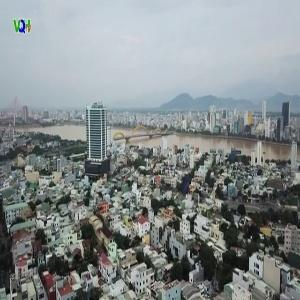drone: (164, 159, 220, 215)
